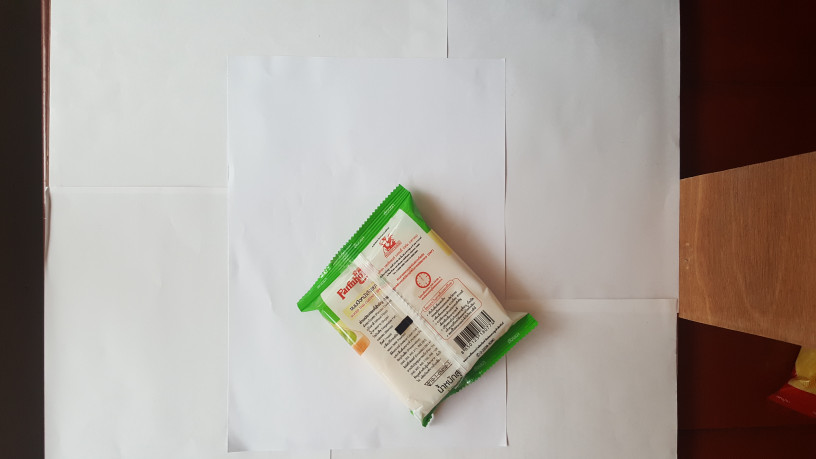farmhouse-bread-pandan: (283, 184, 544, 430)
